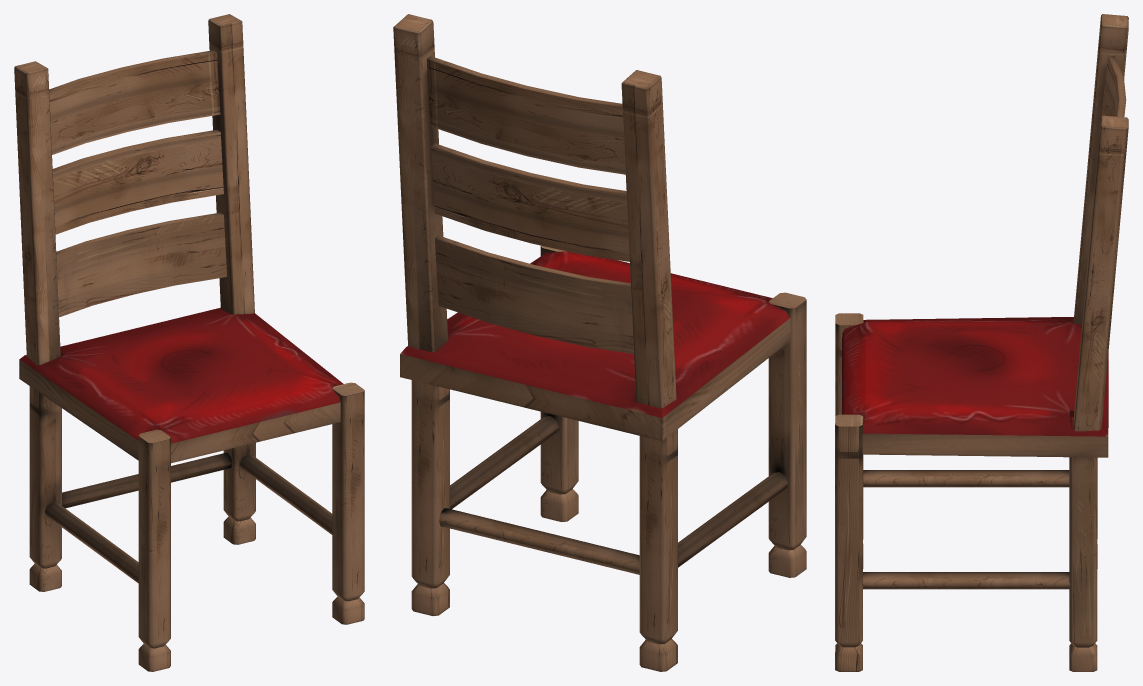
File: chair2.fbx
3 renders of one model, left to right at view 1: azimuth 30°, elevation 25°; view 2: azimuth 150°, elevation 25°; view 3: azimuth 270°, elevation 25°, orthographic. The views are drawn at different scales.
Visible parts, largest first — view 1: polySurface1817; view 2: polySurface1817; view 3: polySurface1817.
Boxes of the visible parts, x1=… form: polySurface1817: x1=14, y1=14, x2=364, y2=671; polySurface1817: x1=393, y1=14, x2=806, y2=671; polySurface1817: x1=835, y1=14, x2=1128, y2=671.
Size of the model in its own units: 59.44 by 130 by 63.28.
